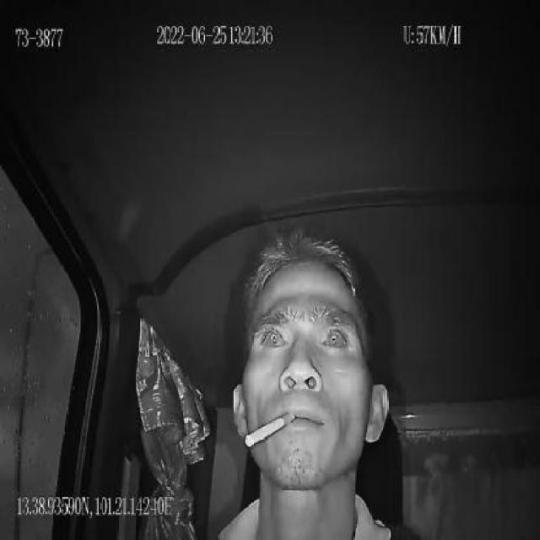smoking: (245, 413, 295, 449)
